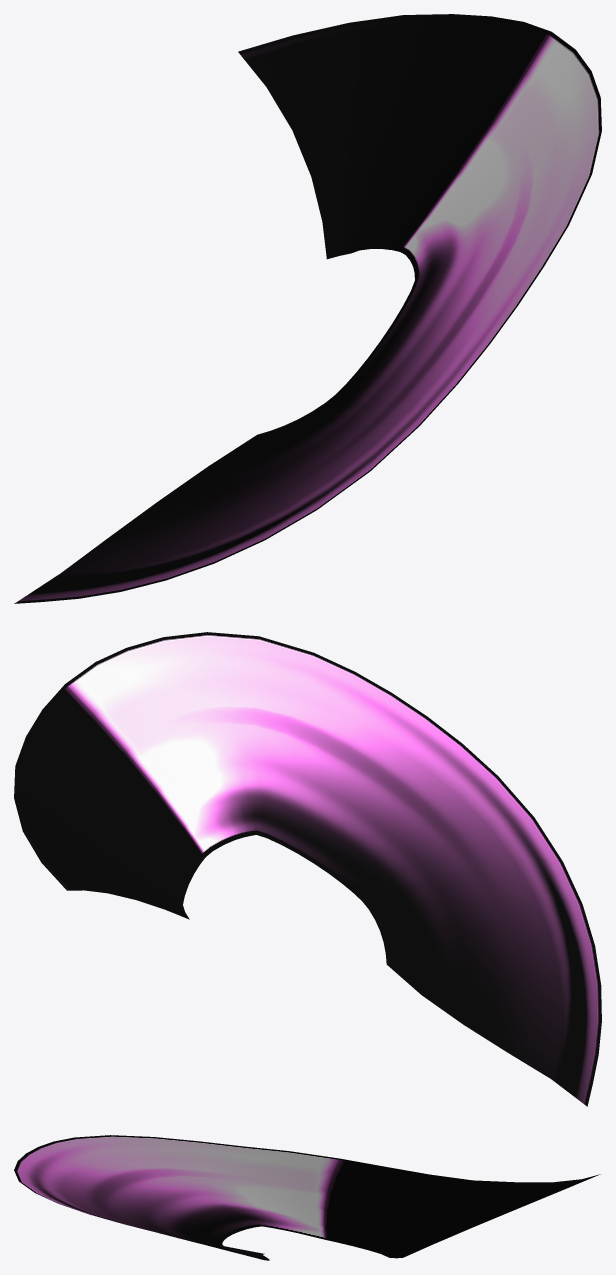
The model's file is Mesh_Snowwhite_003_Yt.fbx.
The picture shows the model from 3 angles, top to bottom: view 1: azimuth 30°, elevation 25°; view 2: azimuth 150°, elevation 25°; view 3: azimuth 270°, elevation 25°; orthographic projection. The views are drawn at different scales.
Parts seen in each view (by area): view 1: Plane002; view 2: Plane002; view 3: Plane002.
Part boxes in pixels (bbox=[...]): Plane002: bbox=[14, 14, 601, 603]; Plane002: bbox=[14, 632, 601, 1106]; Plane002: bbox=[14, 1135, 600, 1260].
Size of the model in its own units: 319 by 332 by 211.
1 material, 1 textured.
